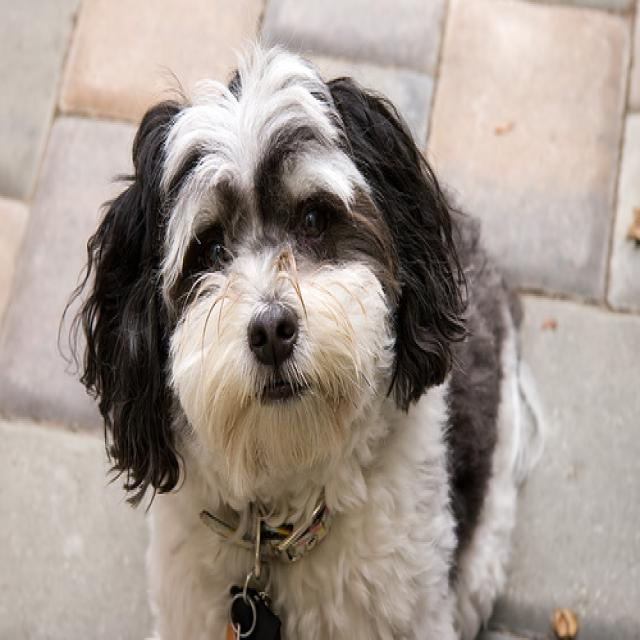dog-havanese: (74, 50, 532, 636)
